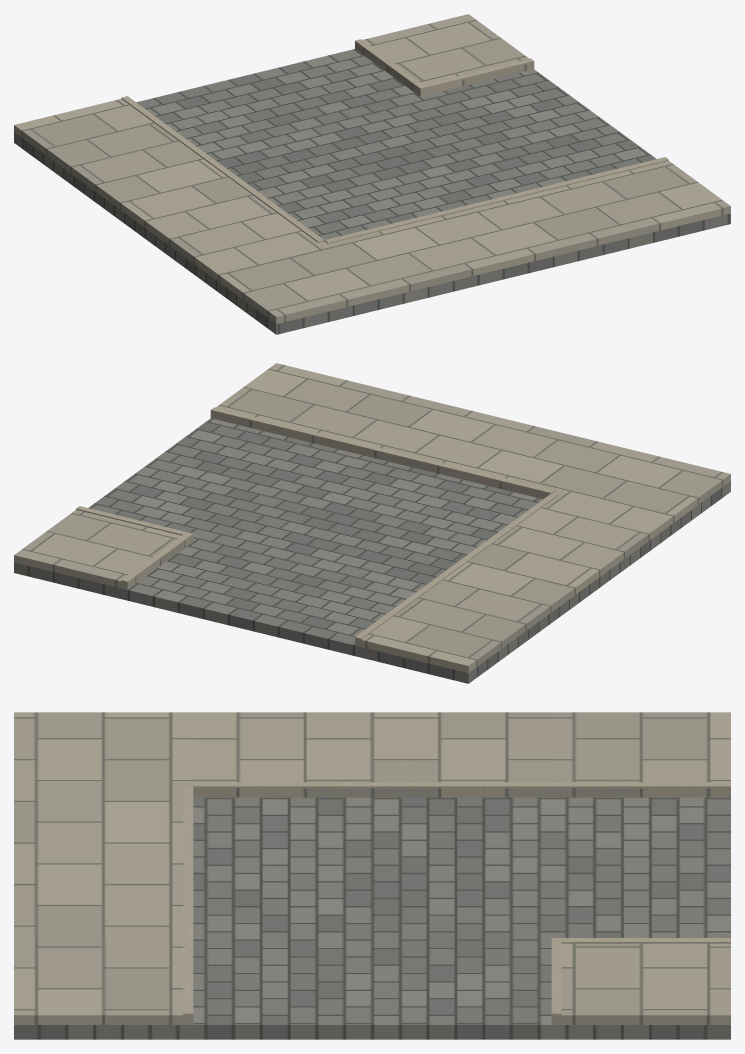
The model's file is Road_Corner.fbx.
3 views of the same model, one above another, from view 1: azimuth 30°, elevation 25°; view 2: azimuth 150°, elevation 25°; view 3: azimuth 270°, elevation 25° (orthographic). The views are drawn at different scales.
Visible parts, largest first — view 1: Road_Corner.001; view 2: Road_Corner.001; view 3: Road_Corner.001.
Boxes of the visible parts, x1,y1,x2,y2 form: Road_Corner.001: (14,14,730,334); Road_Corner.001: (14,363,730,683); Road_Corner.001: (14,712,730,1039).
Size of the model in its own units: 8 by 0.3195 by 8.
